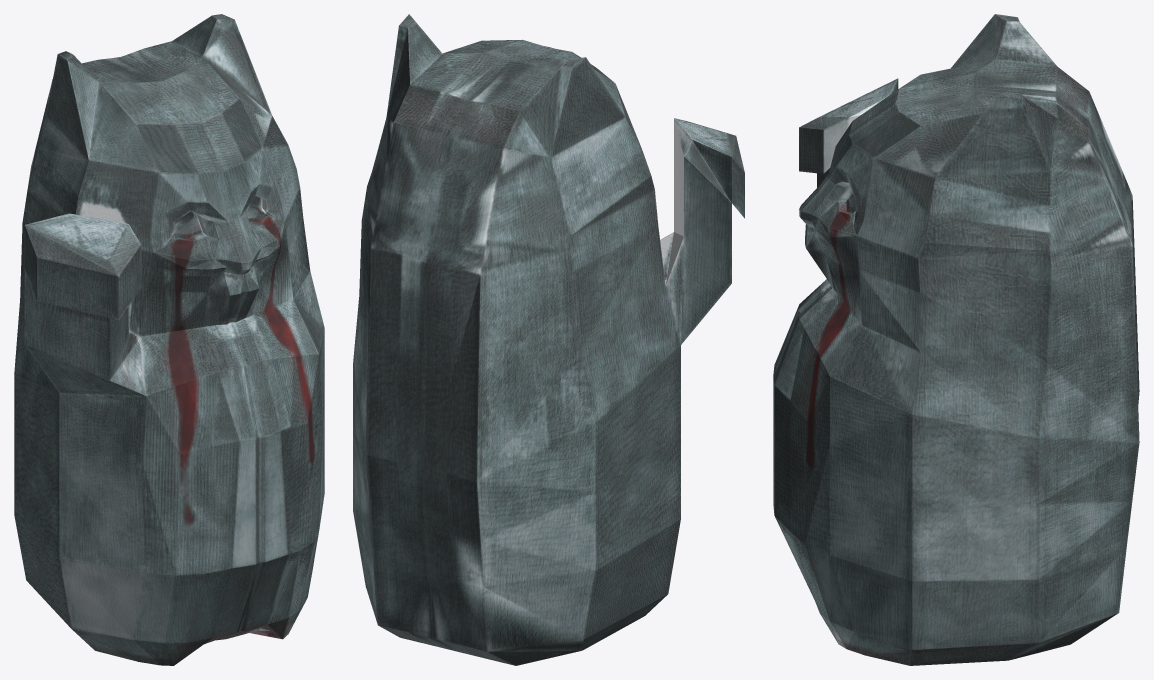
Rendered from Meshy_AI_manekineko03_0729113954_texture.fbx.
The picture shows the model from 3 angles, left to right: view 1: azimuth 30°, elevation 25°; view 2: azimuth 150°, elevation 25°; view 3: azimuth 270°, elevation 25°; orthographic projection. The views are drawn at different scales.
Parts seen in each view (by area): view 1: mesh_node; view 2: mesh_node; view 3: mesh_node.
Boxes of the visible parts, <box> form: mesh_node: <box>14,14,324,665</box>; mesh_node: <box>353,14,744,665</box>; mesh_node: <box>773,14,1139,665</box>.
Size of the model in its own units: 115 by 200 by 118.
Materials: 1 (1 with a texture image).
